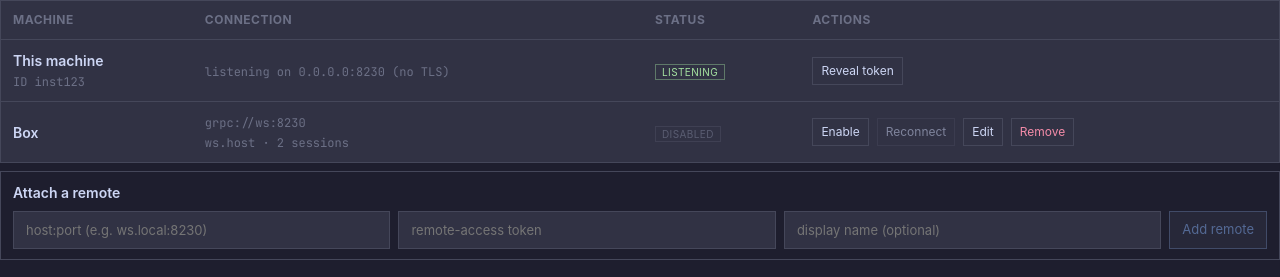
Test: RemoteSettings › toggles an enabled=false remote without replacing its connection settings
What coordinates should you click on to do the following:
click the button "Enable"
I would click on:
 (841, 132)
Its box is [812, 118, 869, 146].
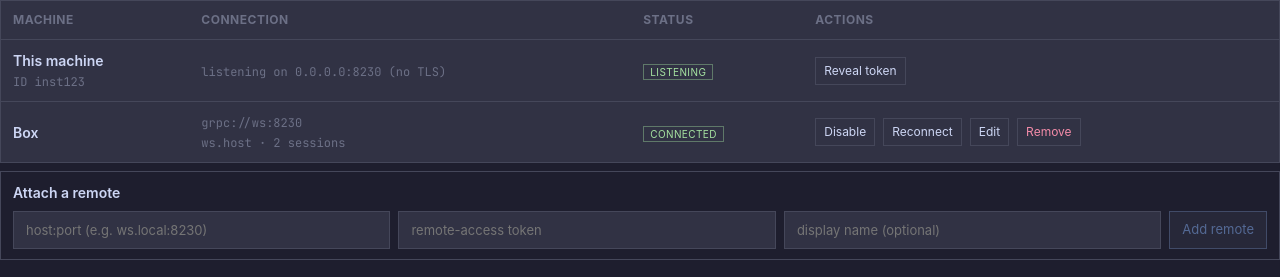
Expected: the text "Box" is shown, [13, 124, 38, 140]
Expected: the button "Disable" is shown, [815, 118, 875, 146]
